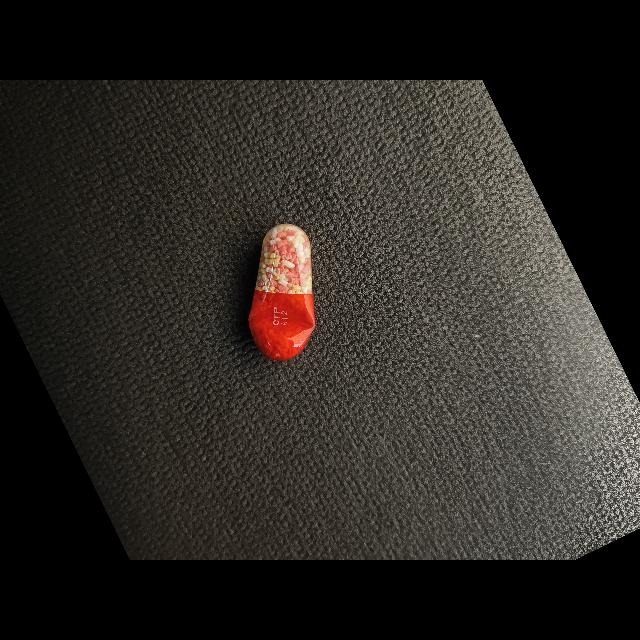Defective Capsule: (248, 224, 315, 361)
